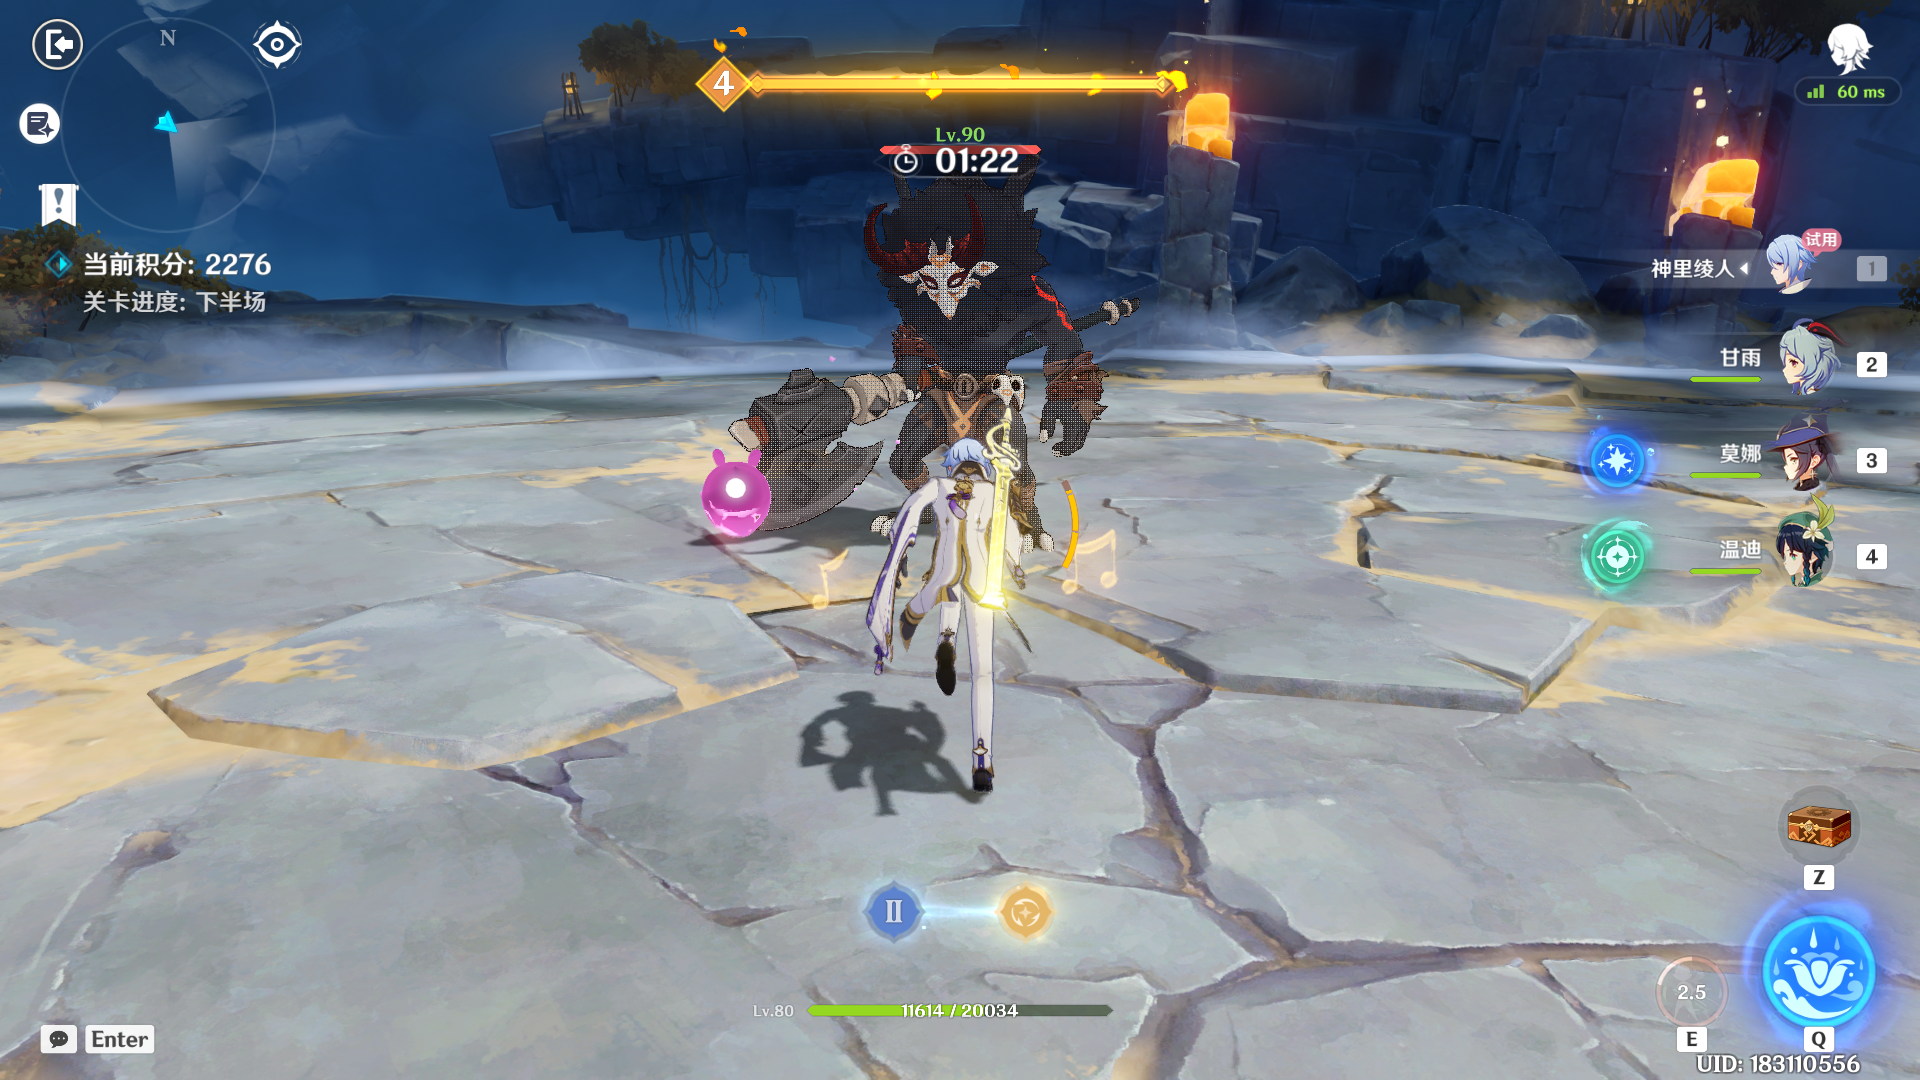bighili: (698, 157, 1193, 607)
character: (825, 411, 1116, 853)
